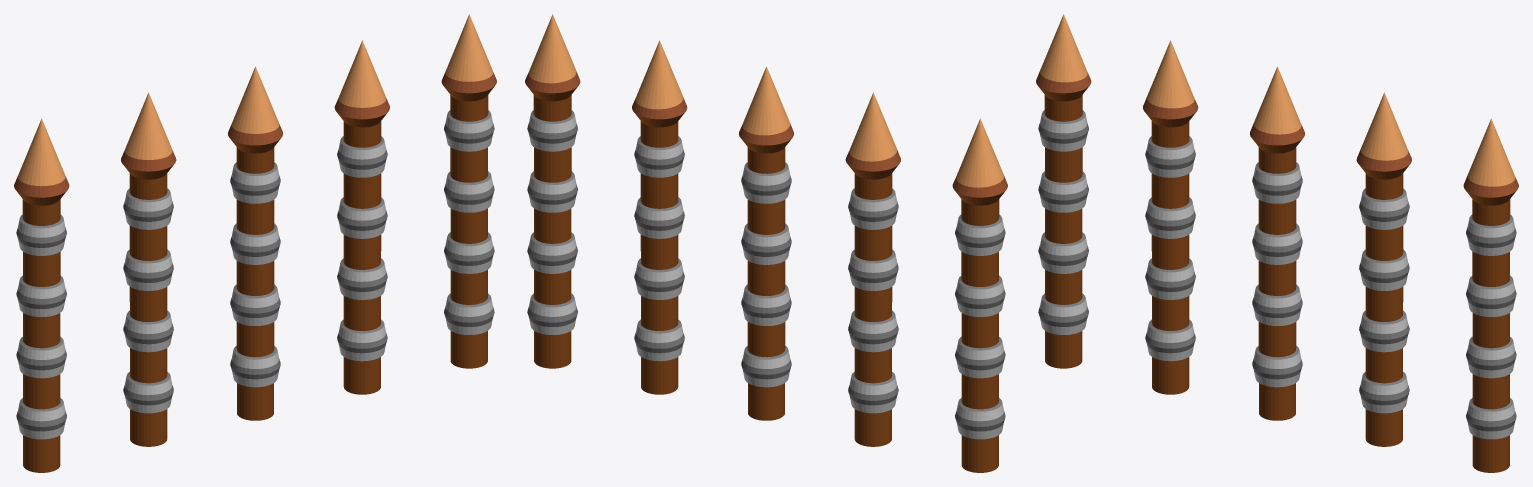
Rendered from Pikes.fbx.
3 views of the same model, side by side, from view 1: azimuth 30°, elevation 25°; view 2: azimuth 150°, elevation 25°; view 3: azimuth 330°, elevation 25° (orthographic).
Visible parts, largest first — view 1: Circle; view 2: Circle; view 3: Circle.
Boxes of the visible parts, <box> form: Circle: <box>14,14,496,472</box>; Circle: <box>525,14,1007,472</box>; Circle: <box>1036,14,1518,472</box>.
Bounding box in the file's own units: 667 × 465 × 67.42.
